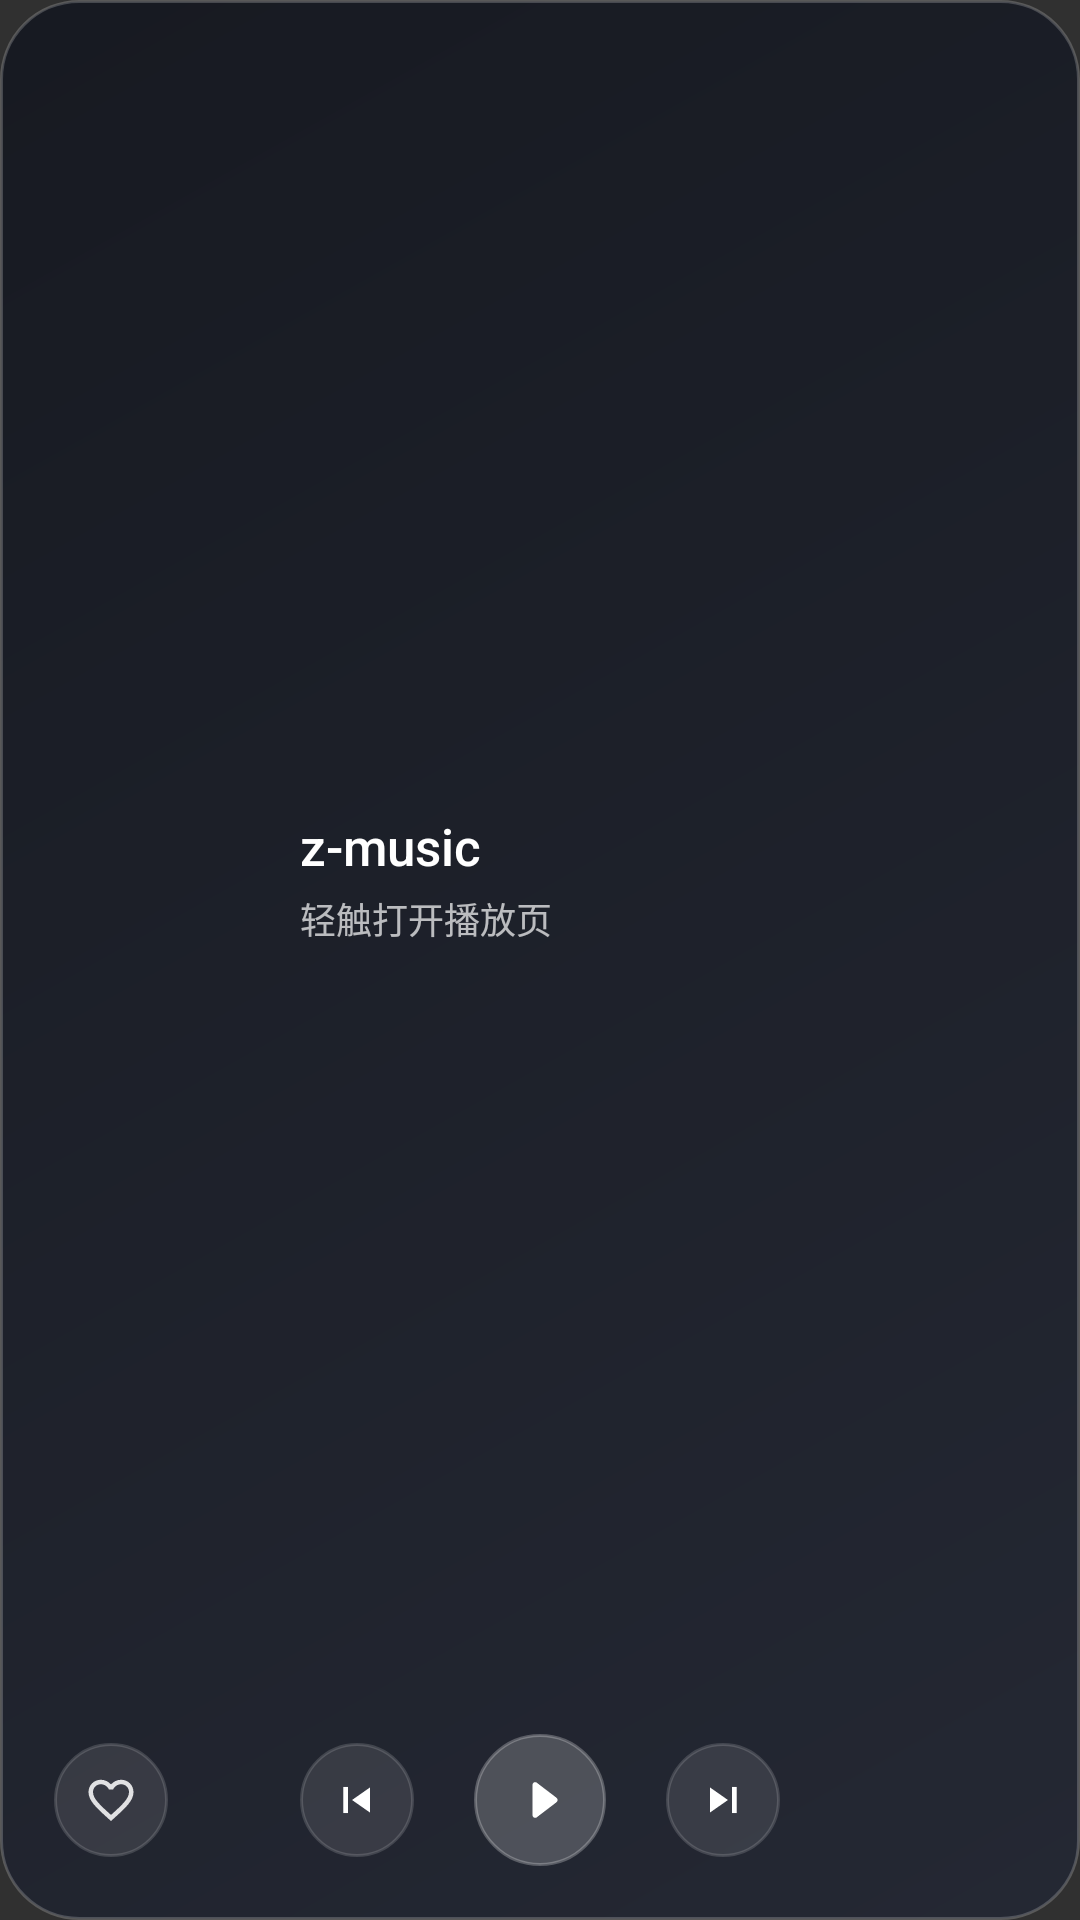

Icon bounding boxes for this 1080w x 1920h phone screenshot, format rect(x1, y1, x2, y2):
上一首: rect(300, 1743, 414, 1857)
下一首: rect(666, 1743, 780, 1857)
喜欢: rect(54, 1743, 168, 1857)
播放: rect(474, 1734, 606, 1866)
